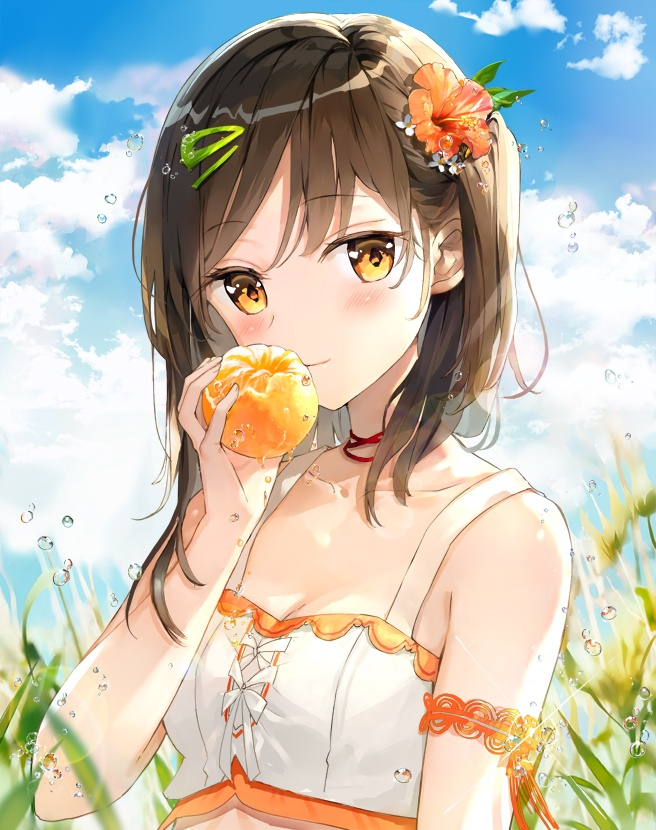纸片人正脸: (143, 1, 505, 419)
